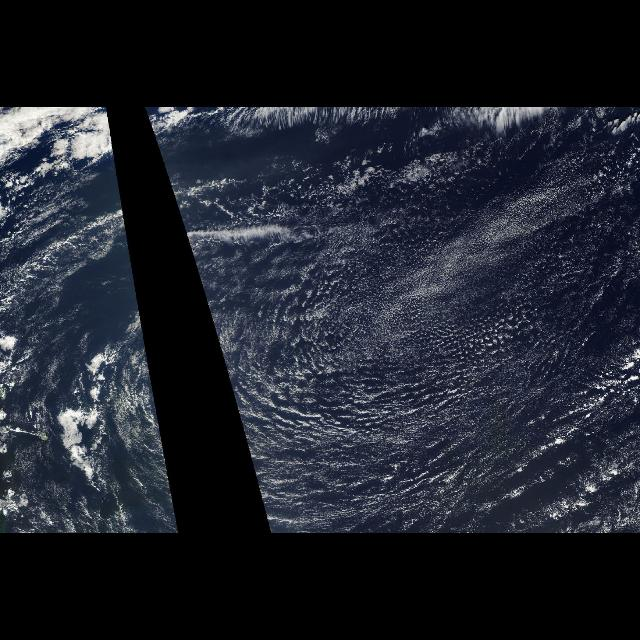Sugar: (159, 146, 635, 530), (128, 245, 178, 530)
